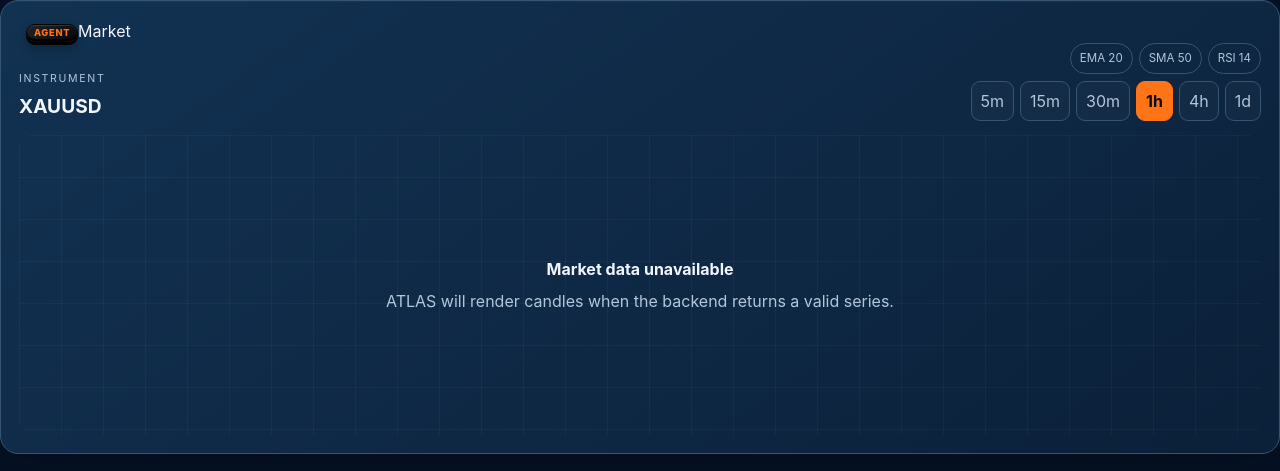
Test case: AI chart controls › lets traders toggle common indicators
The image size is (1280, 471).
Check: the button "SMA 50" is shown, box [1139,43,1202,74]
Check: the button "RSI 14" is shown, box [1208,43,1261,74]
Click the button "EMA 20" at (1101, 59), box [1070,43,1133,74]
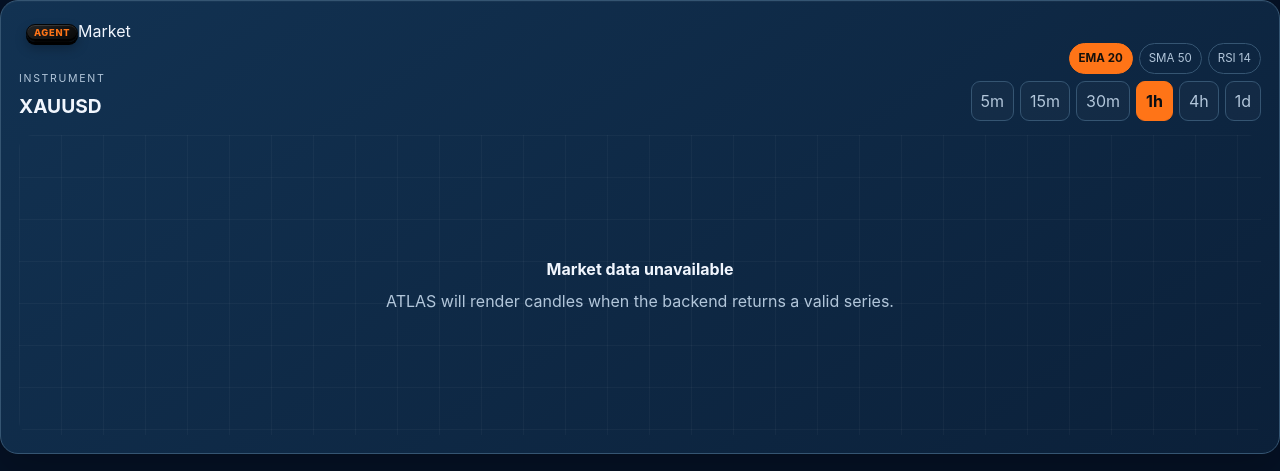
Check: the button "EMA 20" is pressed, box [1069,43,1133,74]
